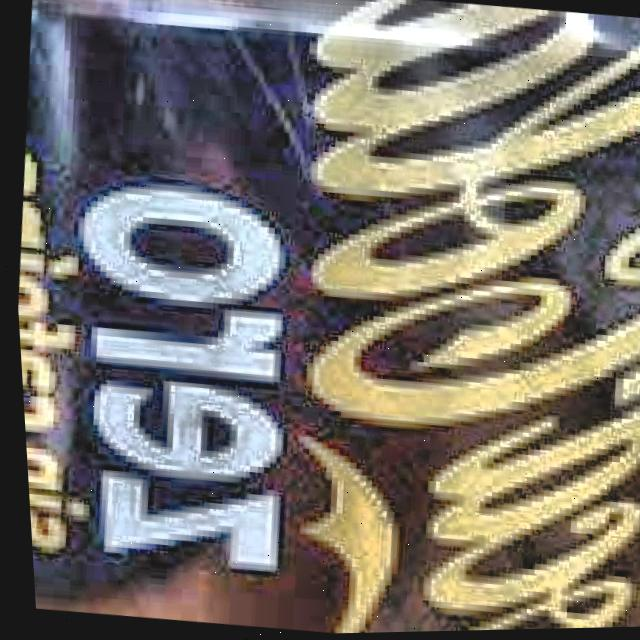metal: (14, 0, 640, 635)
